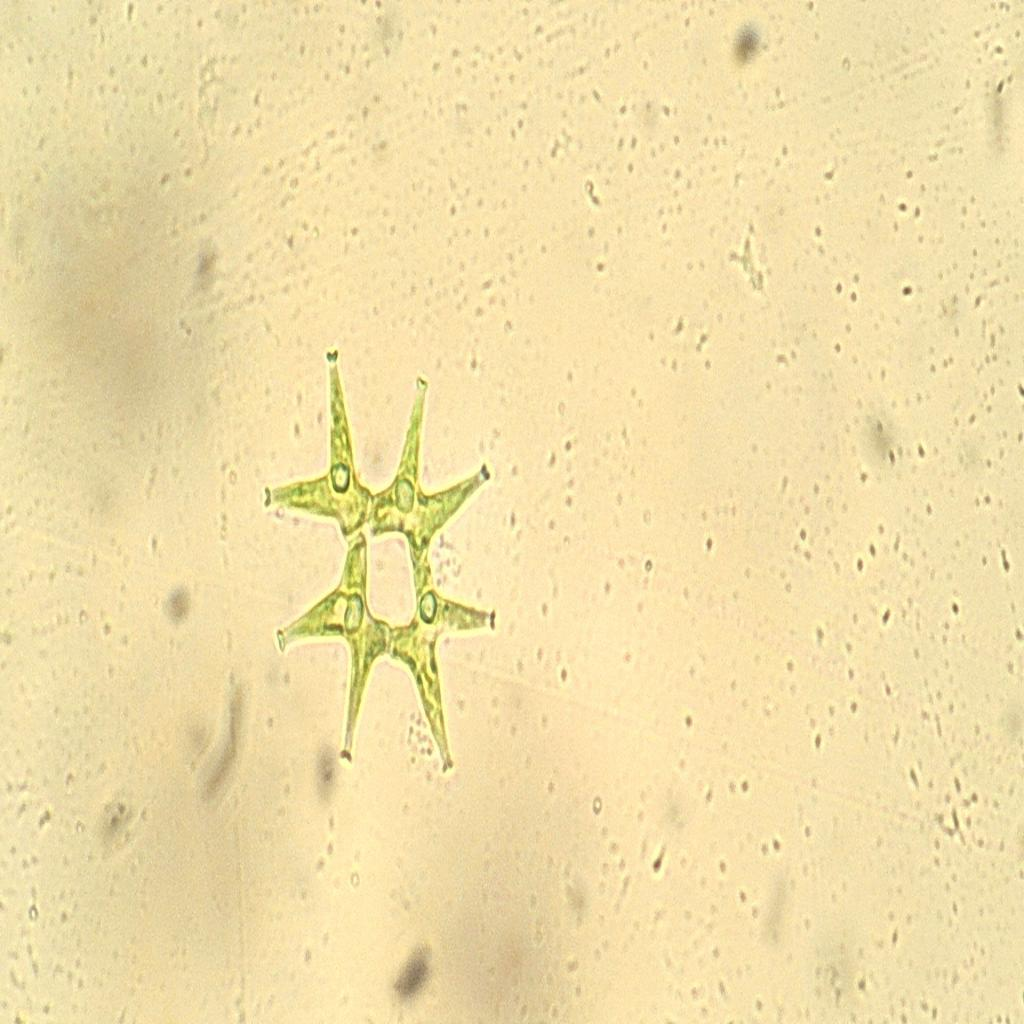Pediastrum_75FI: (249, 310, 509, 806)
